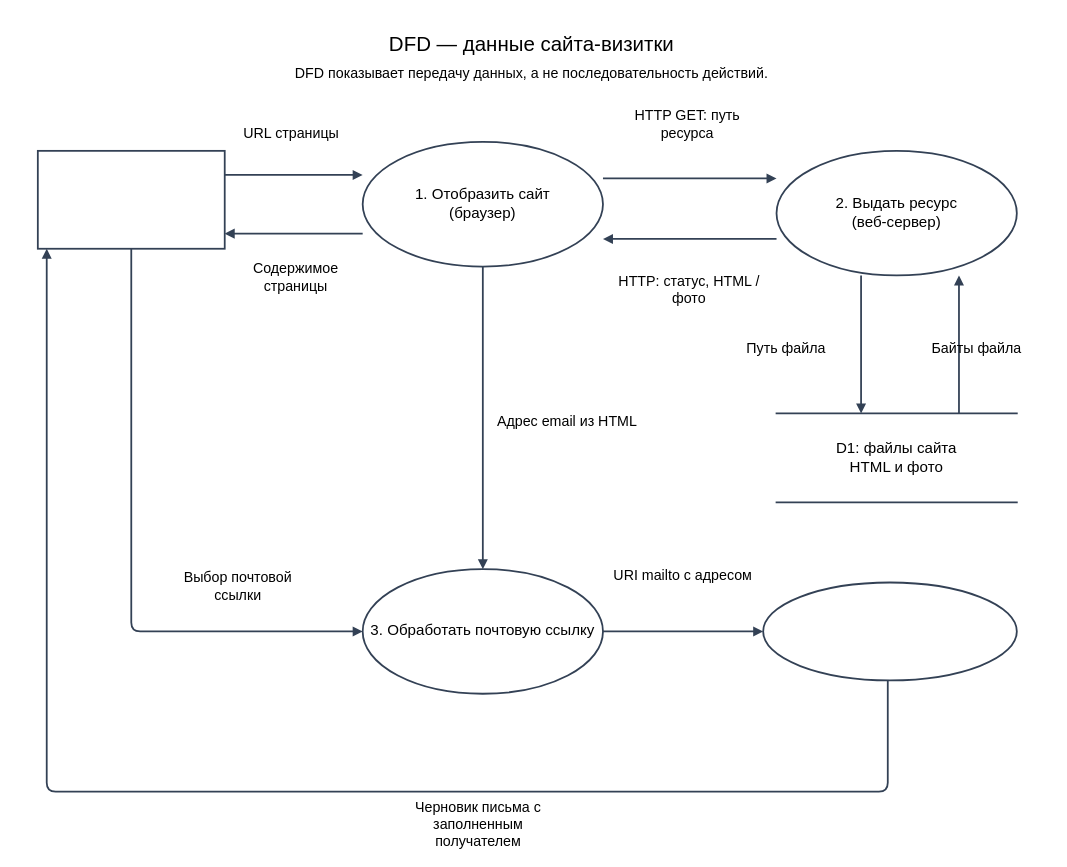
The diagram is 1067 pixels wide and 867 high, and some of its shapes have lost their labels. Each missing label, with the centre of its shape:
"4. Создать черновик (почтовый обработчик)" goes at (x=889, y=631).
"Пользователь" goes at (x=130, y=199).
